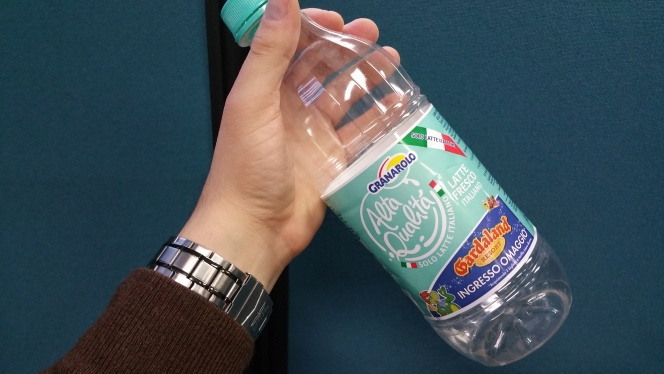bottle: (216, 1, 577, 372)
